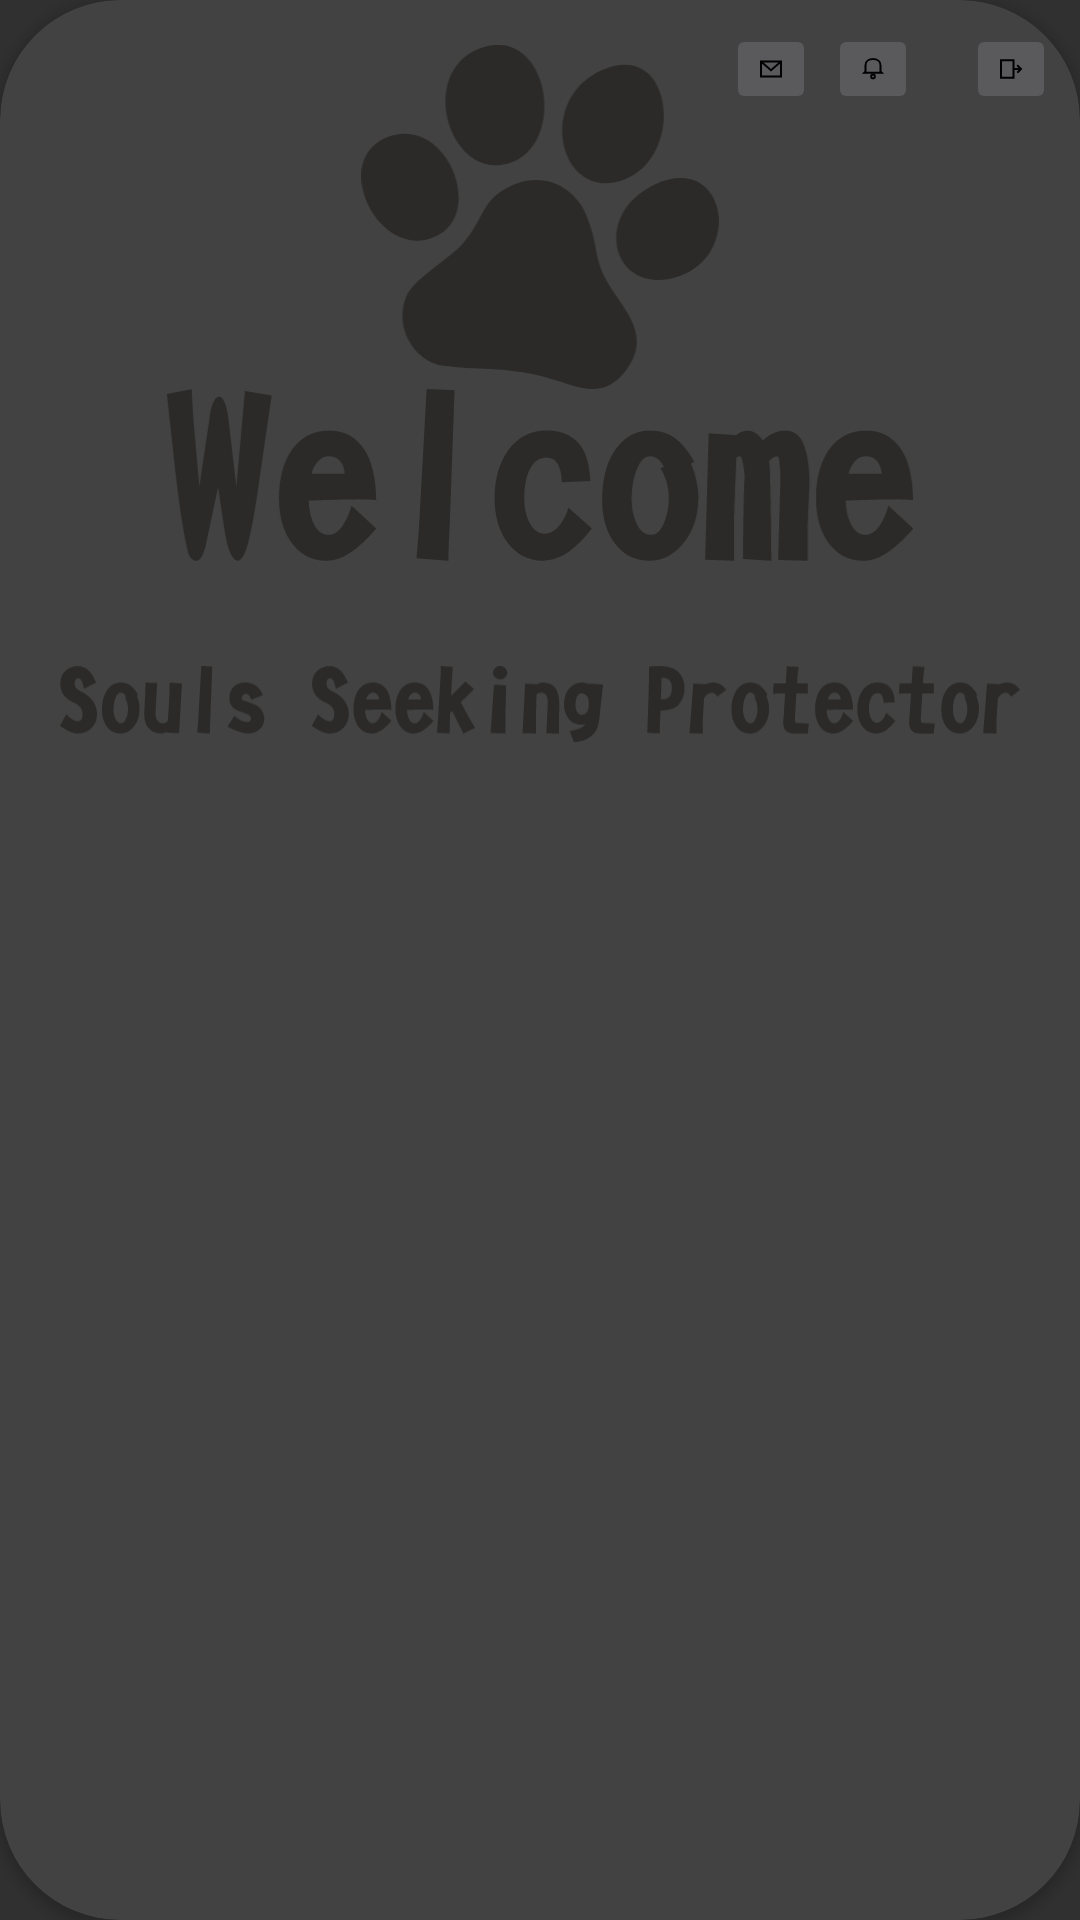

Screen size 1080*1920. Icon name, then its box in pixels as bbox=(x1, y1, x2, y2):
mesaj: bbox=(738, 42, 804, 96)
notification: bbox=(840, 42, 906, 96)
pati: bbox=(361, 45, 718, 389)
quit: bbox=(978, 42, 1044, 96)
